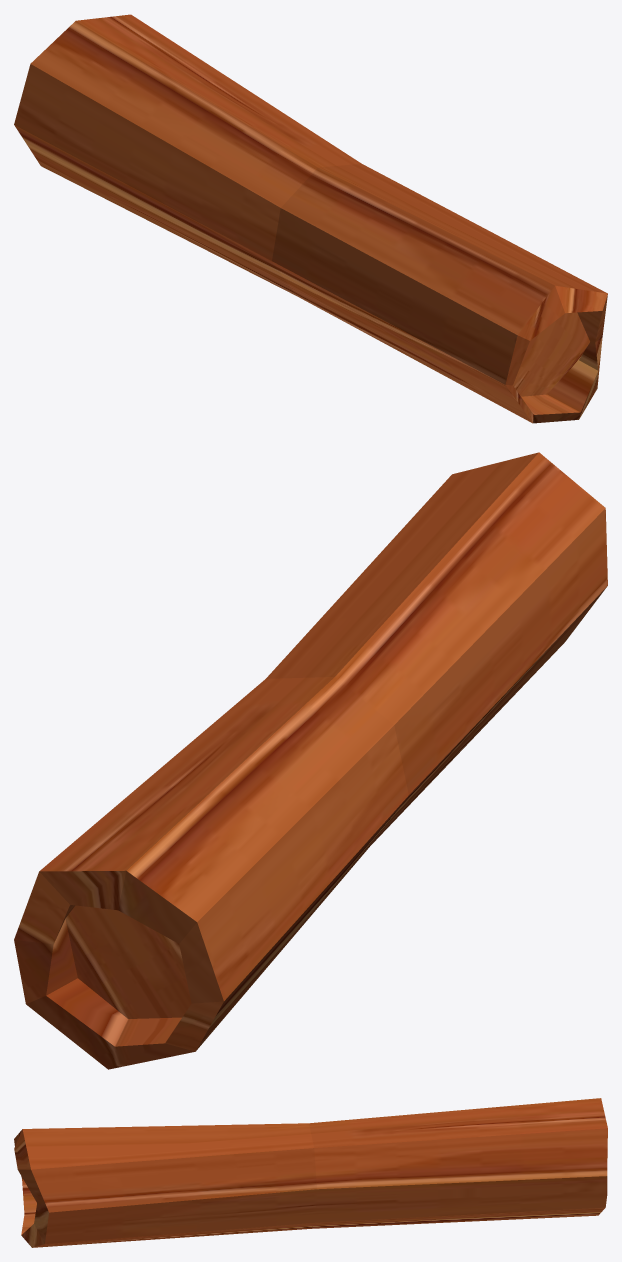
The model's file is tronco.fbx.
3 views of the same model, one above another, from view 1: azimuth 30°, elevation 25°; view 2: azimuth 150°, elevation 25°; view 3: azimuth 270°, elevation 25° (orthographic). The views are drawn at different scales.
Visible parts, largest first — view 1: Cylinder.001; view 2: Cylinder.001; view 3: Cylinder.001.
Boxes of the visible parts, x1=… form: Cylinder.001: x1=14, y1=14, x2=607, y2=423; Cylinder.001: x1=14, y1=452, x2=607, y2=1069; Cylinder.001: x1=14, y1=1098, x2=607, y2=1247.
Size of the model in its own units: 1261 by 838 by 4004.
1 material, 1 textured.
